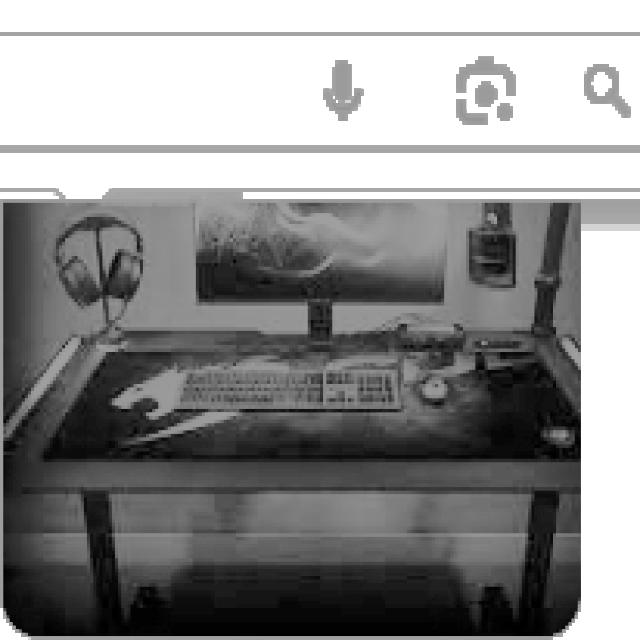table: (12, 323, 578, 630)
